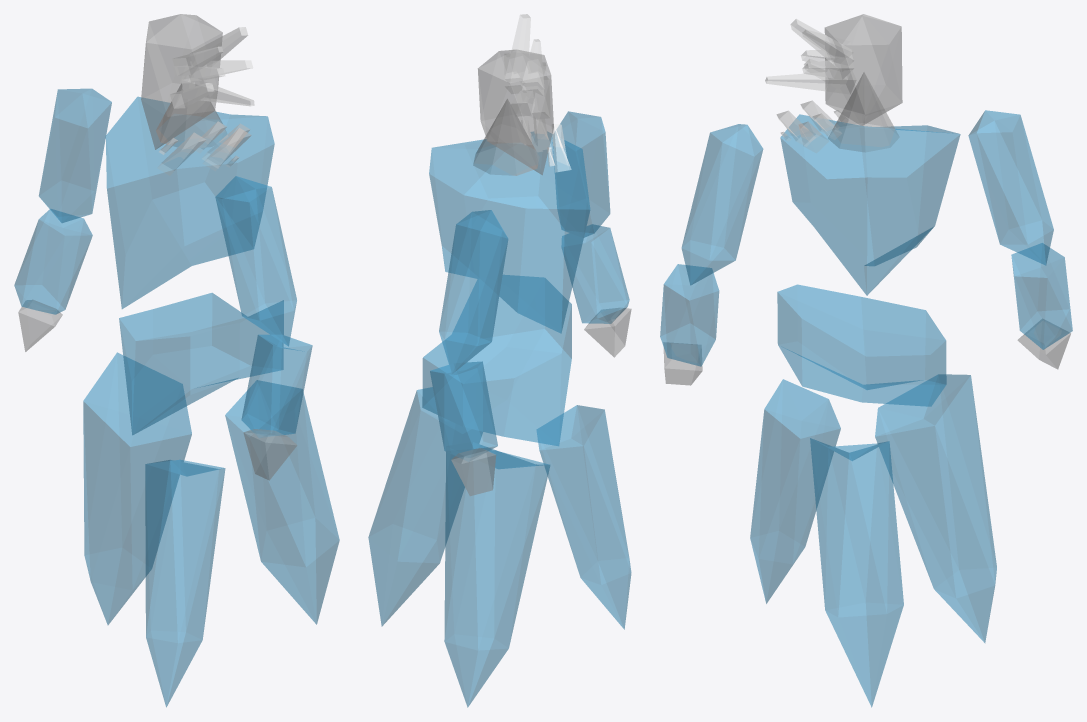
The model's file is ghostIdle5.obj.
3 views of the same model, side by side, from view 1: azimuth 30°, elevation 25°; view 2: azimuth 150°, elevation 25°; view 3: azimuth 270°, elevation 25° (orthographic). The views are drawn at different scales.
Parts seen in each view (by area): view 1: Cube.001_Cube.001, Icosphere.005, Icosphere.004, Cube_Cube.002, Icosphere.003, Icosphere.005_Icosphere.001, Icosphere.003_Icosphere.001, Icosphere.007_Icosphere.001, Icosphere.006_Icosphere.001, Icosphere.008_Icosphere.001, Cone_Cone.002, Cube.002_Cube.001 (+8 smaller); view 2: Cube.001_Cube.001, Cube_Cube.002, Icosphere.005, Icosphere.004, Icosphere.003, Icosphere.007_Icosphere.001, Icosphere.003_Icosphere.001, Icosphere.005_Icosphere.001, Icosphere.008_Icosphere.001, Icosphere.006_Icosphere.001, Cone_Cone.002, Cube.003_Cube.001 (+6 smaller); view 3: Cube.001_Cube.001, Icosphere.005, Icosphere.004, Cube_Cube.002, Icosphere.003, Icosphere.005_Icosphere.001, Icosphere.007_Icosphere.001, Icosphere.003_Icosphere.001, Icosphere.006_Icosphere.001, Icosphere.008_Icosphere.001, Cone_Cone.002, Cube.003_Cube.001 (+4 smaller).
Part boxes in pixels (<box>): Cube.001_Cube.001: <box>105,96,274,308</box>; Icosphere.005: <box>83,352,191,624</box>; Icosphere.004: <box>225,380,339,624</box>; Cube_Cube.002: <box>119,293,283,435</box>; Icosphere.003: <box>145,459,225,707</box>; Icosphere.005_Icosphere.001: <box>215,176,296,346</box>; Icosphere.003_Icosphere.001: <box>141,14,222,149</box>; Icosphere.007_Icosphere.001: <box>39,88,111,222</box>; Icosphere.006_Icosphere.001: <box>241,334,312,437</box>; Icosphere.008_Icosphere.001: <box>14,209,92,314</box>; Cone_Cone.002: <box>156,83,226,147</box>; Cube.002_Cube.001: <box>243,429,296,480</box>; Cube.001_Cube.001: <box>429,132,590,333</box>; Cube_Cube.002: <box>422,275,571,446</box>; Icosphere.005: <box>444,442,550,707</box>; Icosphere.004: <box>368,387,482,626</box>; Icosphere.003: <box>537,405,631,629</box>; Icosphere.007_Icosphere.001: <box>439,210,508,373</box>; Icosphere.003_Icosphere.001: <box>478,49,553,174</box>; Icosphere.005_Icosphere.001: <box>554,111,610,237</box>; Icosphere.008_Icosphere.001: <box>430,361,497,461</box>; Icosphere.006_Icosphere.001: <box>561,224,629,323</box>; Cone_Cone.002: <box>473,99,537,175</box>; Cube.003_Cube.001: <box>451,448,496,495</box>; Cube.001_Cube.001: <box>780,114,960,295</box>; Icosphere.005: <box>875,374,996,642</box>; Icosphere.004: <box>810,438,903,707</box>; Cube_Cube.002: <box>777,284,946,406</box>; Icosphere.003: <box>750,379,840,603</box>; Icosphere.005_Icosphere.001: <box>681,124,763,285</box>; Icosphere.007_Icosphere.001: <box>968,110,1053,265</box>; Icosphere.003_Icosphere.001: <box>824,14,902,125</box>; Icosphere.006_Icosphere.001: <box>660,264,719,366</box>; Icosphere.008_Icosphere.001: <box>1011,243,1072,349</box>; Cone_Cone.002: <box>828,72,899,152</box>; Cube.003_Cube.001: <box>1017,319,1070,369</box>.
Bounding box in the file's own units: 17 × 47.71 × 27.86.
